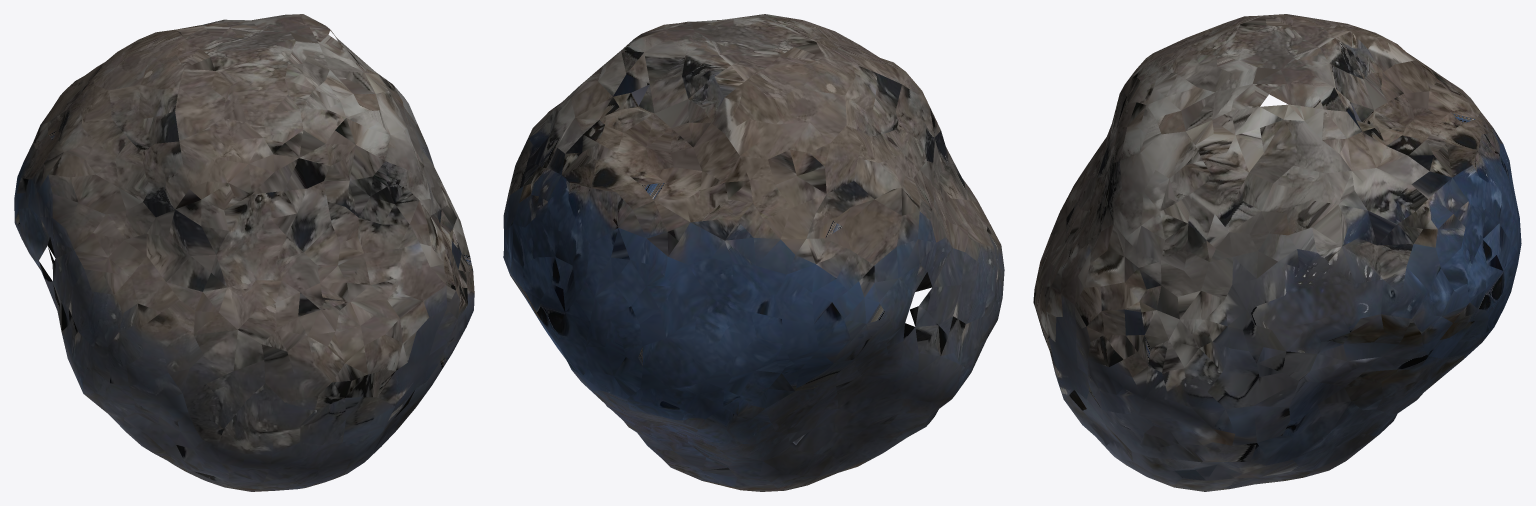
The model's file is asteroid.glb.
3 renders of one model, left to right at view 1: azimuth 30°, elevation 25°; view 2: azimuth 150°, elevation 25°; view 3: azimuth 270°, elevation 25°, orthographic. The views are drawn at different scales.
Visible parts, largest first — view 1: tripo_node_5d11fa4d-1fc6-4c24-a829-44ae83ad98f5; view 2: tripo_node_5d11fa4d-1fc6-4c24-a829-44ae83ad98f5; view 3: tripo_node_5d11fa4d-1fc6-4c24-a829-44ae83ad98f5.
Boxes of the visible parts, left/top/right/bottom form: tripo_node_5d11fa4d-1fc6-4c24-a829-44ae83ad98f5: left=14, top=14, right=474, bottom=491; tripo_node_5d11fa4d-1fc6-4c24-a829-44ae83ad98f5: left=503, top=14, right=1004, bottom=491; tripo_node_5d11fa4d-1fc6-4c24-a829-44ae83ad98f5: left=1033, top=14, right=1521, bottom=491.
Bounding box in the file's own units: 0.9021 × 0.959 × 0.9889.
Materials: 1 (1 with a texture image).
